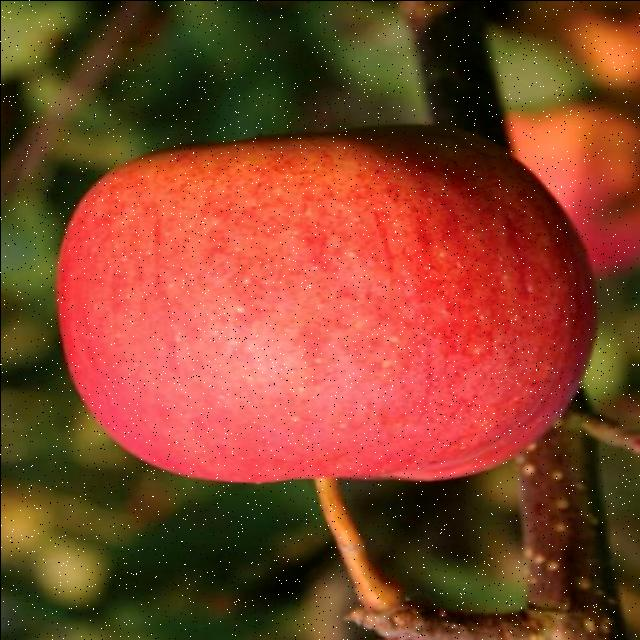HEALTHY: (44, 111, 594, 521)
